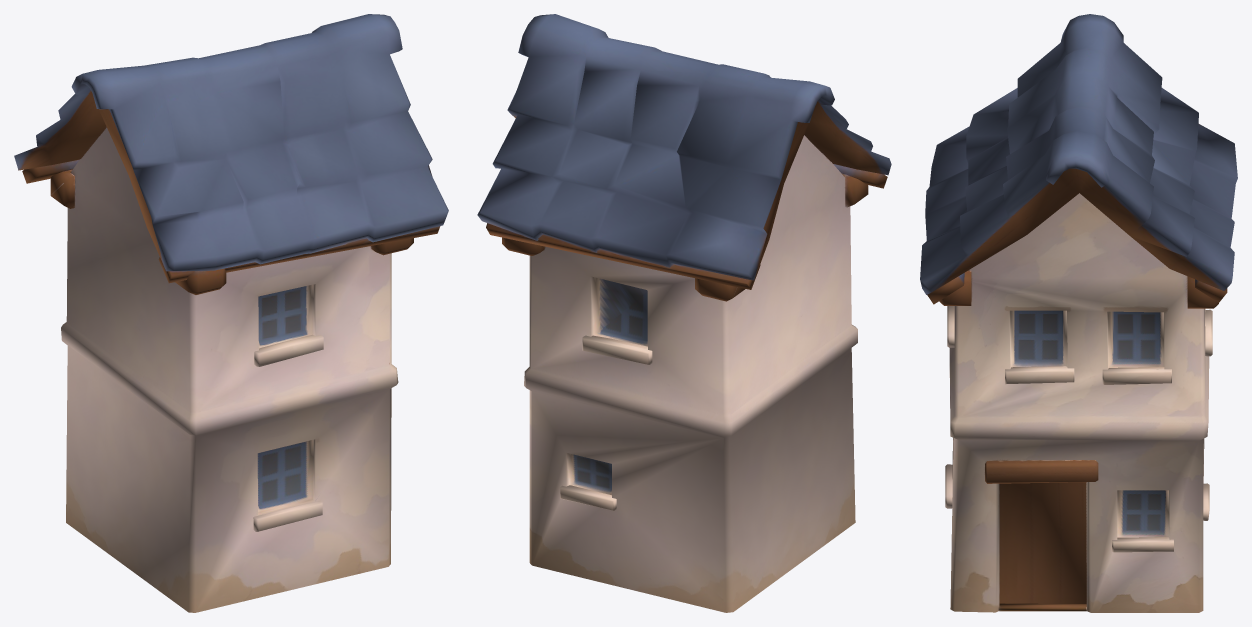
3 views of the same model, side by side, from view 1: azimuth 30°, elevation 25°; view 2: azimuth 150°, elevation 25°; view 3: azimuth 270°, elevation 25° (orthographic).
Visible parts, largest first — view 1: tripo_node_679dbbcc-cf3e-46ec-ac1a-8b48338bdd84; view 2: tripo_node_679dbbcc-cf3e-46ec-ac1a-8b48338bdd84; view 3: tripo_node_679dbbcc-cf3e-46ec-ac1a-8b48338bdd84.
Part boxes in pixels (x1,y1,x2,y2): tripo_node_679dbbcc-cf3e-46ec-ac1a-8b48338bdd84: [14, 14, 448, 612]; tripo_node_679dbbcc-cf3e-46ec-ac1a-8b48338bdd84: [477, 14, 891, 612]; tripo_node_679dbbcc-cf3e-46ec-ac1a-8b48338bdd84: [920, 14, 1237, 612].
Size of the model in its own units: 0.627 by 0.998 by 0.5918.
Materials: 1 (1 with a texture image).
